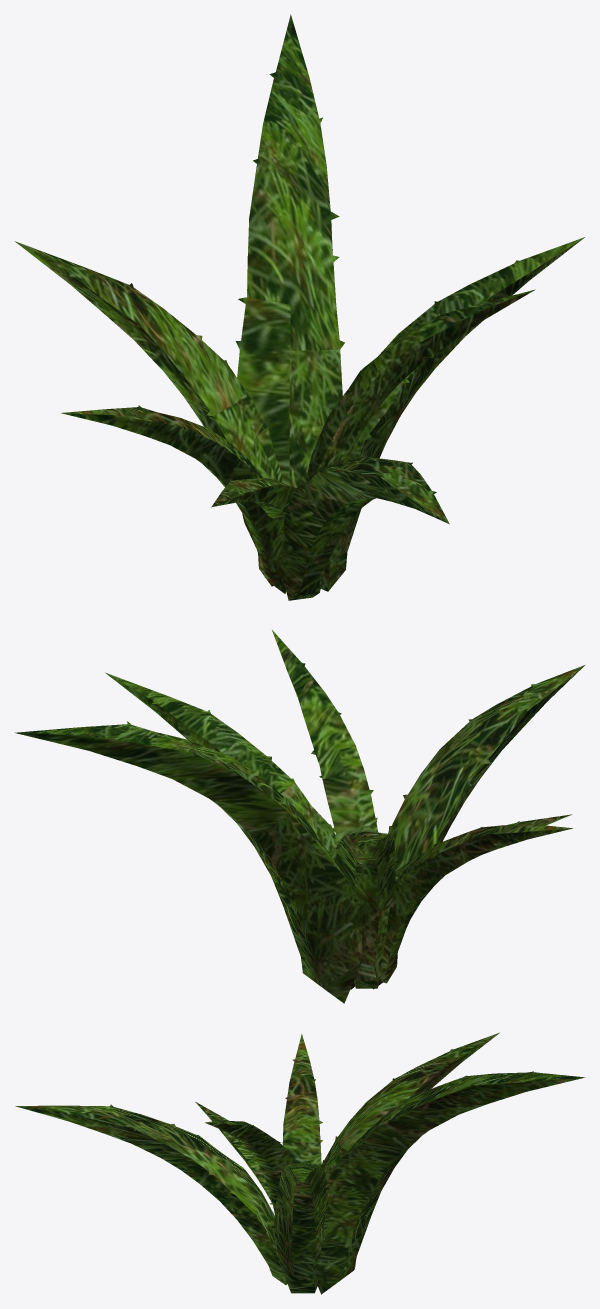
File: Herbs.fbx
3 renders of one model, top to bottom at view 1: azimuth 30°, elevation 25°; view 2: azimuth 150°, elevation 25°; view 3: azimuth 270°, elevation 25°, orthographic. The views are drawn at different scales.
Visible parts, largest first — view 1: Aloe..001; view 2: Aloe..001; view 3: Aloe..001.
Part boxes in pixels (<box>): Aloe..001: <box>14,14,584,600</box>; Aloe..001: <box>14,630,584,1003</box>; Aloe..001: <box>15,1032,585,1294</box>.
Bounding box in the file's own units: 52.5 × 69.19 × 36.67.
Materials: 1 (1 with a texture image).
